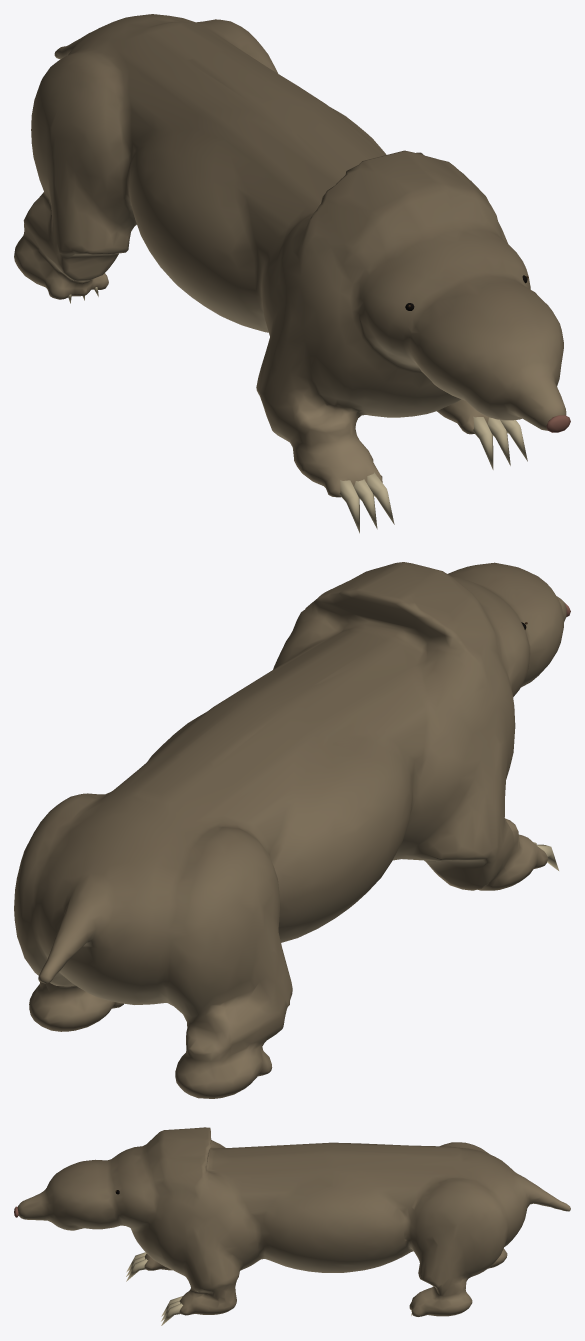
File: EpoicotheriumUnicum.fbx
3 renders of one model, top to bottom at view 1: azimuth 30°, elevation 25°; view 2: azimuth 150°, elevation 25°; view 3: azimuth 270°, elevation 25°, orthographic. The views are drawn at different scales.
Parts seen in each view (by area): view 1: EpoicotheriumUnicum; view 2: EpoicotheriumUnicum; view 3: EpoicotheriumUnicum.
Boxes of the visible parts, left/top/right/bottom form: EpoicotheriumUnicum: left=14, top=14, right=570, bottom=533; EpoicotheriumUnicum: left=14, top=562, right=570, bottom=1098; EpoicotheriumUnicum: left=14, top=1127, right=570, bottom=1325.
Bounding box in the file's own units: 0.4401 × 0.5252 × 1.6.
